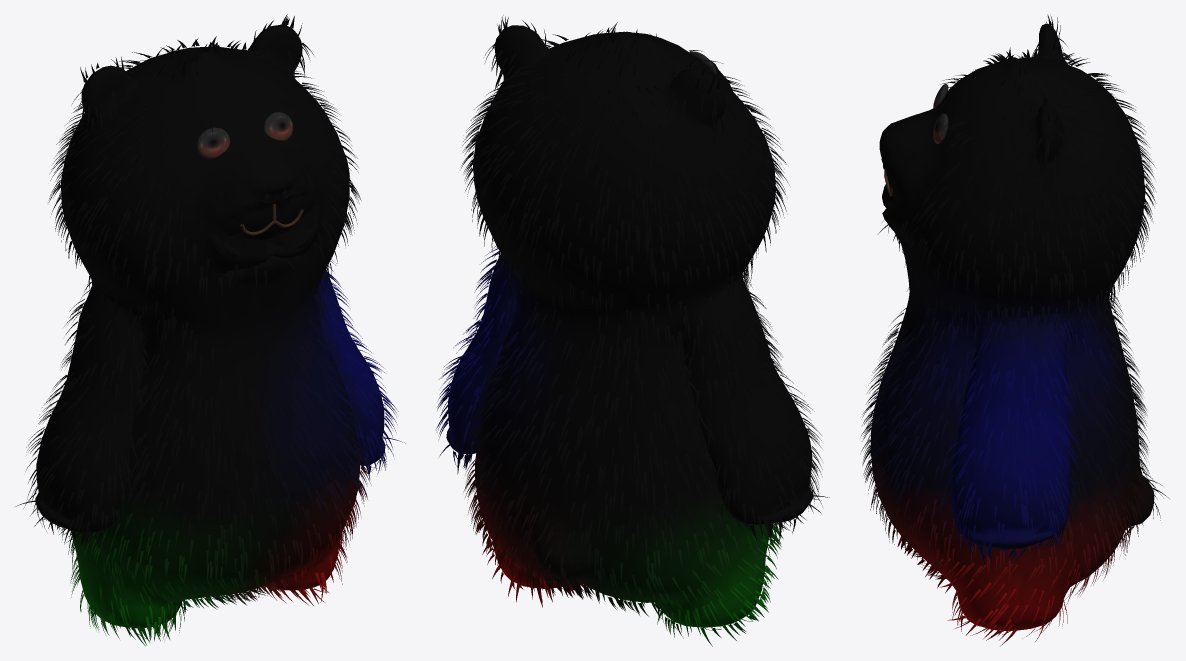
Rendered from bear_shell_v13.glb.
3 views of the same model, side by side, from view 1: azimuth 30°, elevation 25°; view 2: azimuth 150°, elevation 25°; view 3: azimuth 270°, elevation 25° (orthographic). The views are drawn at different scales.
Parts seen in each view (by area): view 1: BoundedShellGroom, LayeredCurvedGroom, Body, BrownBear_Normal; view 2: BoundedShellGroom, LayeredCurvedGroom, Body; view 3: BoundedShellGroom, LayeredCurvedGroom, Body, BrownBear_Normal.
Part boxes in pixels (x1=…): BoundedShellGroom: x1=35, y1=24, x2=385, y2=628; LayeredCurvedGroom: x1=15, y1=14, x2=405, y2=646; Body: x1=36, y1=28, x2=378, y2=626; BrownBear_Normal: x1=197, y1=112, x2=293, y2=158; BoundedShellGroom: x1=446, y1=25, x2=813, y2=627; LayeredCurvedGroom: x1=436, y1=15, x2=829, y2=646; Body: x1=448, y1=26, x2=809, y2=618; BoundedShellGroom: x1=870, y1=23, x2=1154, y2=630; LayeredCurvedGroom: x1=860, y1=14, x2=1169, y2=646; Body: x1=871, y1=27, x2=1147, y2=609; BrownBear_Normal: x1=933, y1=84, x2=948, y2=143.
Bounding box in the file's own units: 1.74 × 2.56 × 1.34.
Materials: 5 (4 with a texture image).
